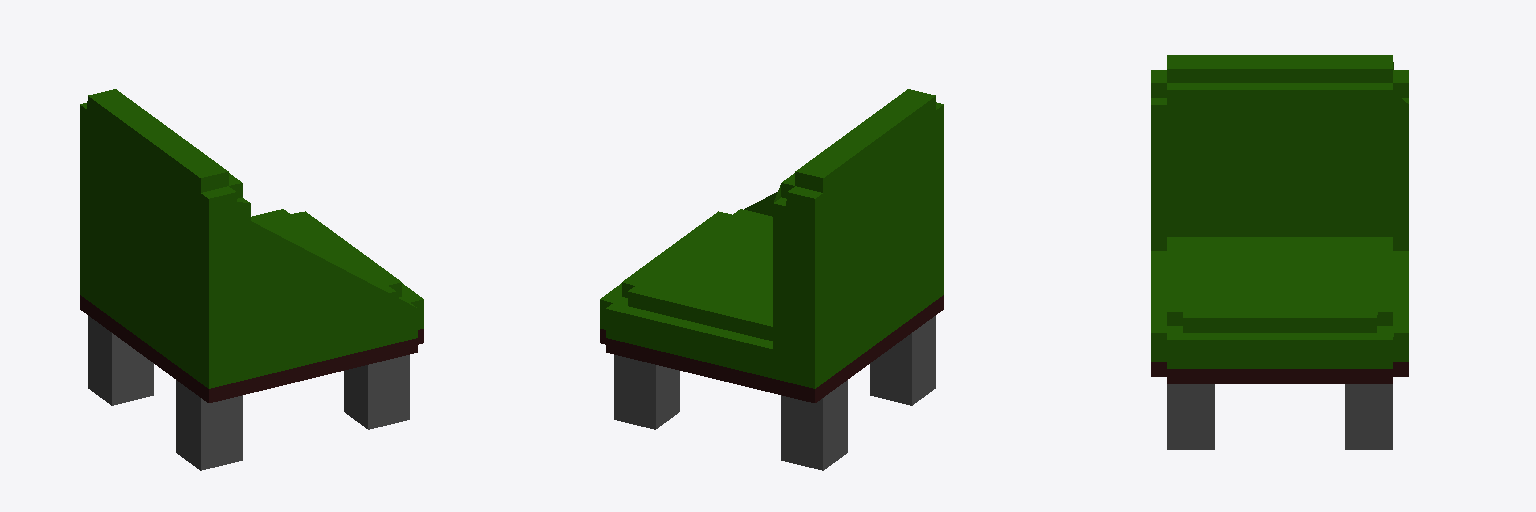
Rendered from ChairGreenNoMeshCol.obj.
3 views of the same model, side by side, from view 1: azimuth 30°, elevation 25°; view 2: azimuth 150°, elevation 25°; view 3: azimuth 270°, elevation 25° (orthographic).
Parts seen in each view (by area): view 1: GreenChair.001_GreenChair.003; view 2: GreenChair.001_GreenChair.003; view 3: GreenChair.001_GreenChair.003.
Part boxes in pixels (x1,y1,x2,y2): GreenChair.001_GreenChair.003: (80,89,423,470); GreenChair.001_GreenChair.003: (600,89,943,470); GreenChair.001_GreenChair.003: (1151,55,1408,449).
Bounding box in the file's own units: 1 × 1.25 × 1.